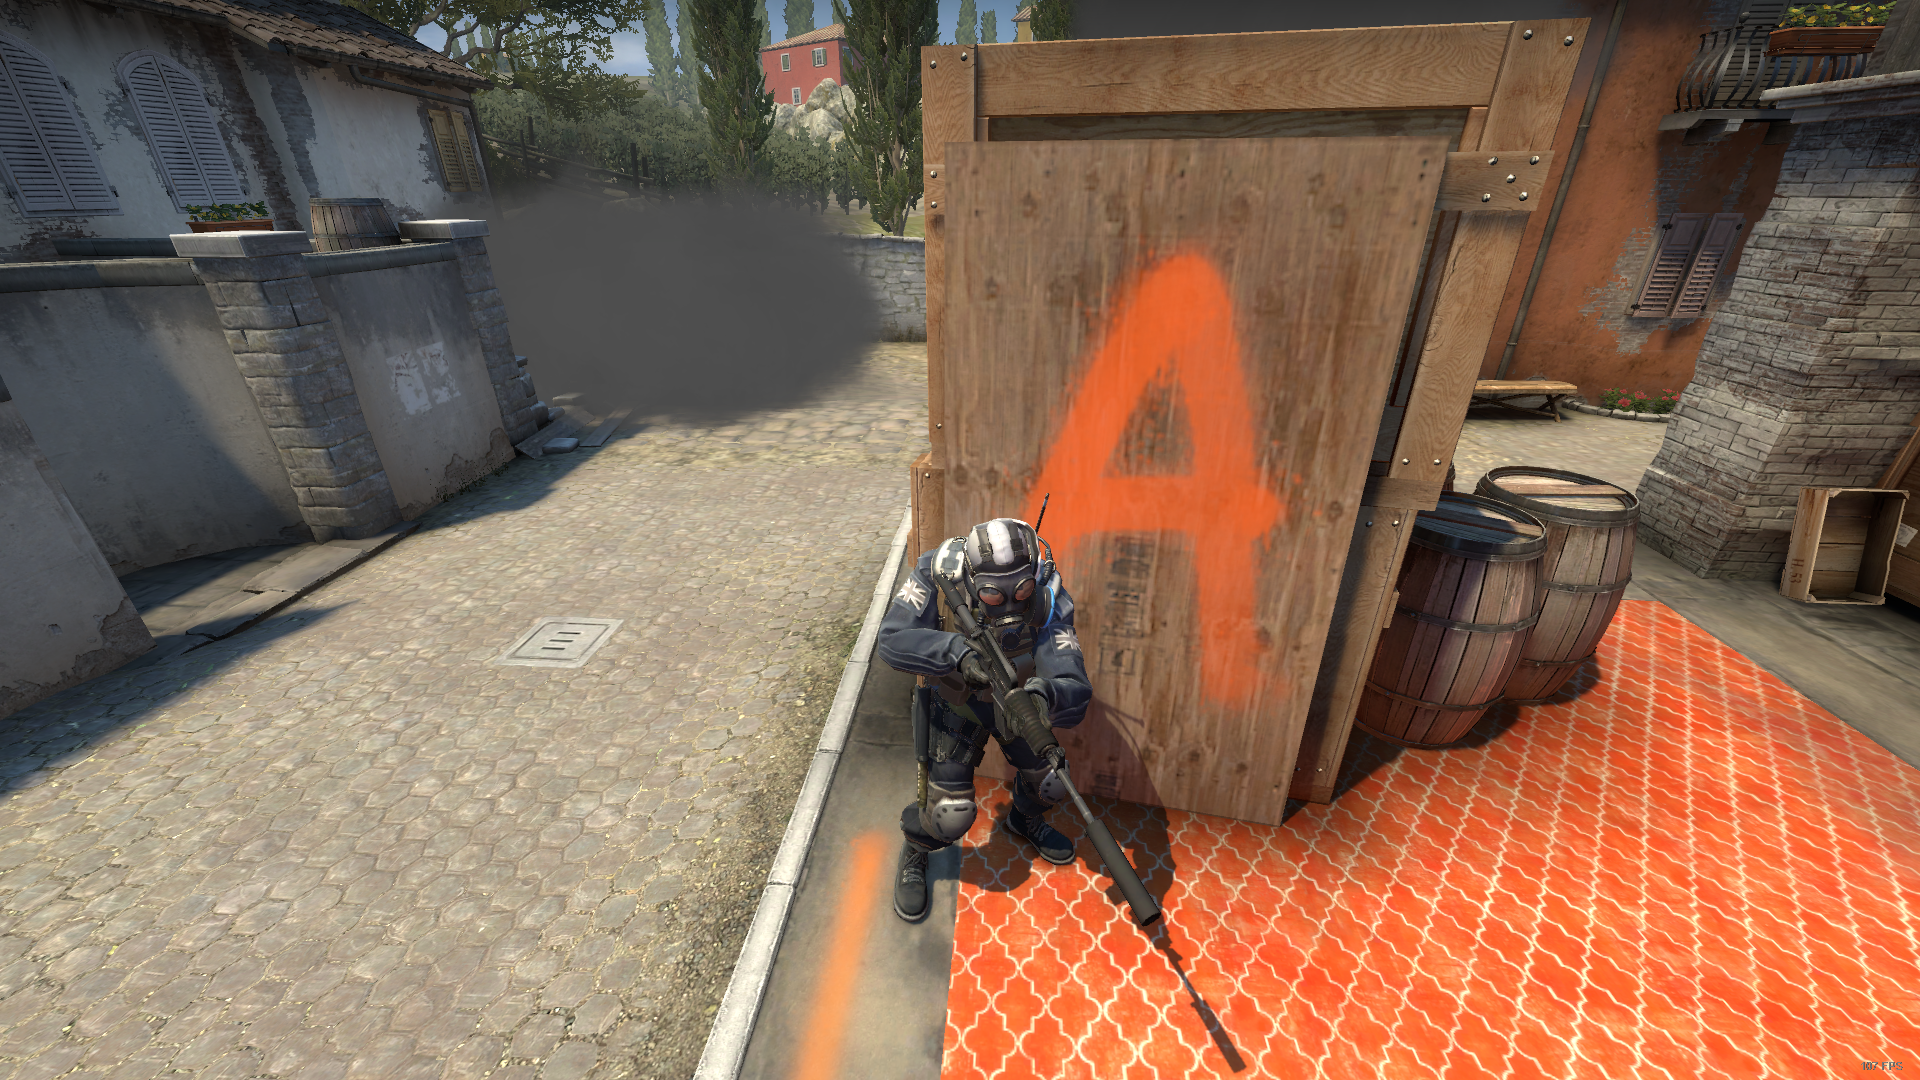ct: (877, 522, 1093, 922)
